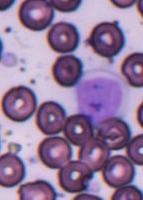L: (74, 72, 125, 125)
